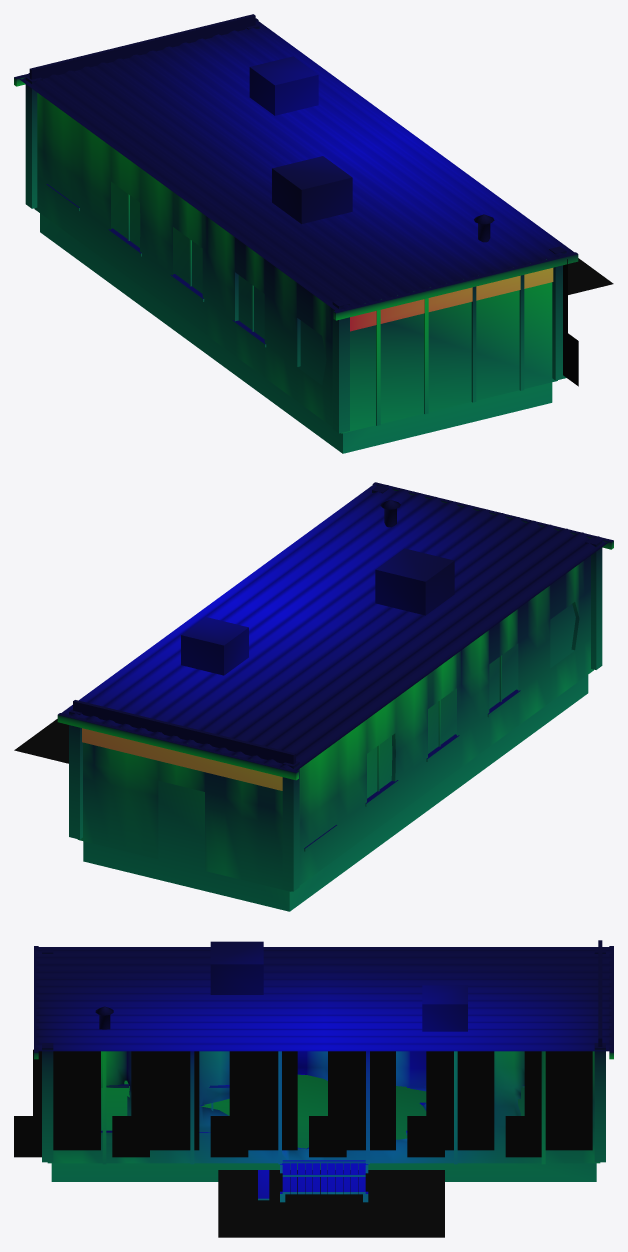
Rendered from portable_damaged.glb.
3 views of the same model, one above another, from view 1: azimuth 30°, elevation 25°; view 2: azimuth 150°, elevation 25°; view 3: azimuth 270°, elevation 25° (orthographic). The views are drawn at different scales.
Visible parts, largest first — view 1: lod0; view 2: lod0; view 3: lod0.
Part boxes in pixels (x1,y1,x2,y2): lod0: (14, 14, 613, 453); lod0: (14, 482, 613, 911); lod0: (14, 940, 613, 1237).
Size of what is drawn, in the model's own units: 10.44 by 4.96 by 15.86.
